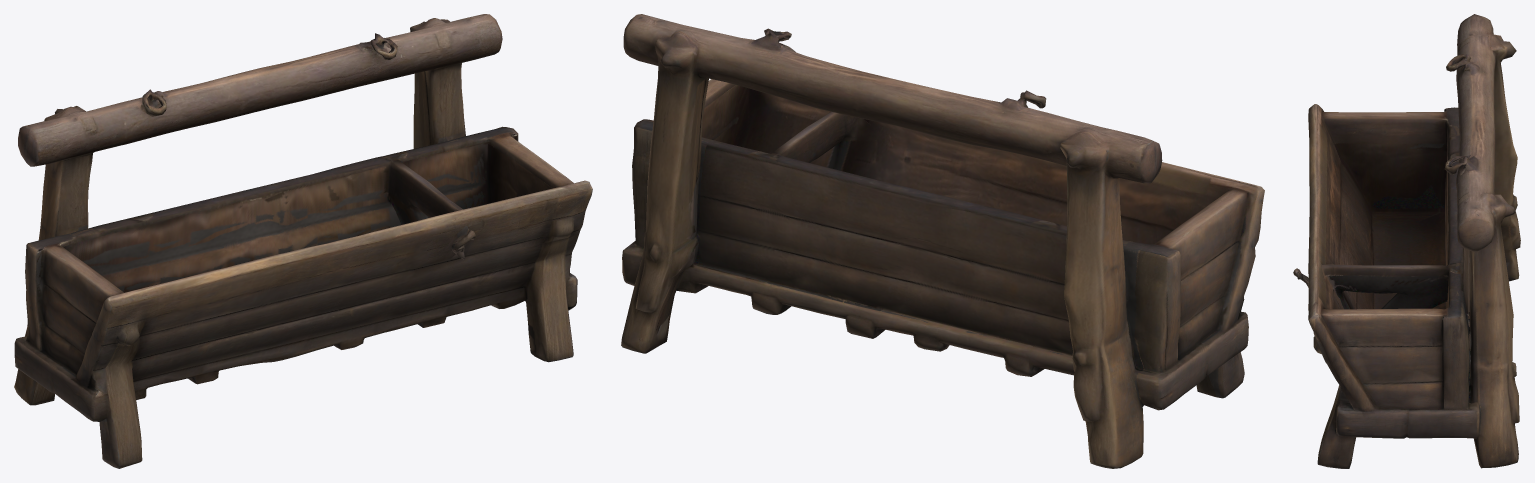
The model's file is trog_original.glb.
3 views of the same model, side by side, from view 1: azimuth 30°, elevation 25°; view 2: azimuth 150°, elevation 25°; view 3: azimuth 270°, elevation 25° (orthographic). The views are drawn at different scales.
Size of the model in its own units: 2.01 by 1.17 by 0.9014.
Materials: 1 (1 with a texture image).
